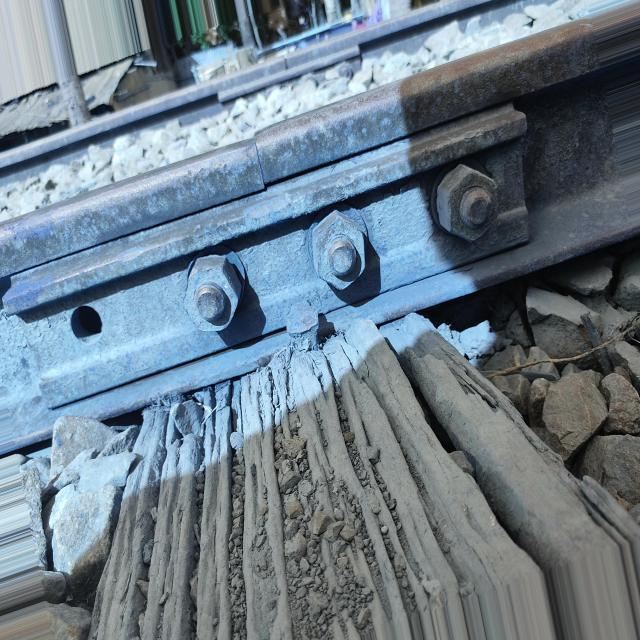Defective Joint: (0, 53, 629, 419)
Good Joint: (71, 305, 102, 339)
